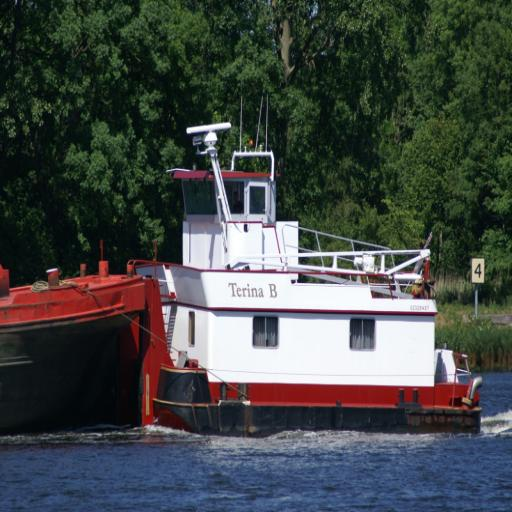tugboat: (95, 119, 490, 448)
